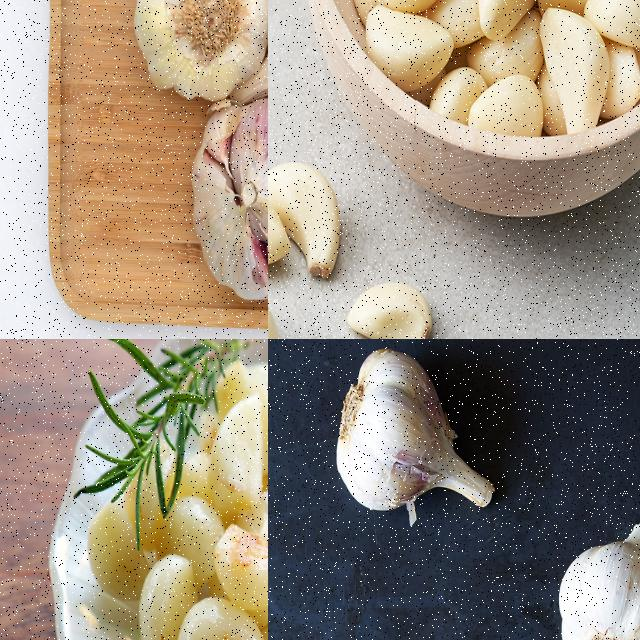garlic: (89, 352, 267, 639), (338, 0, 639, 141), (334, 343, 498, 523), (188, 98, 267, 305), (131, 0, 267, 107), (556, 519, 639, 639), (268, 158, 343, 281), (345, 281, 436, 338)
